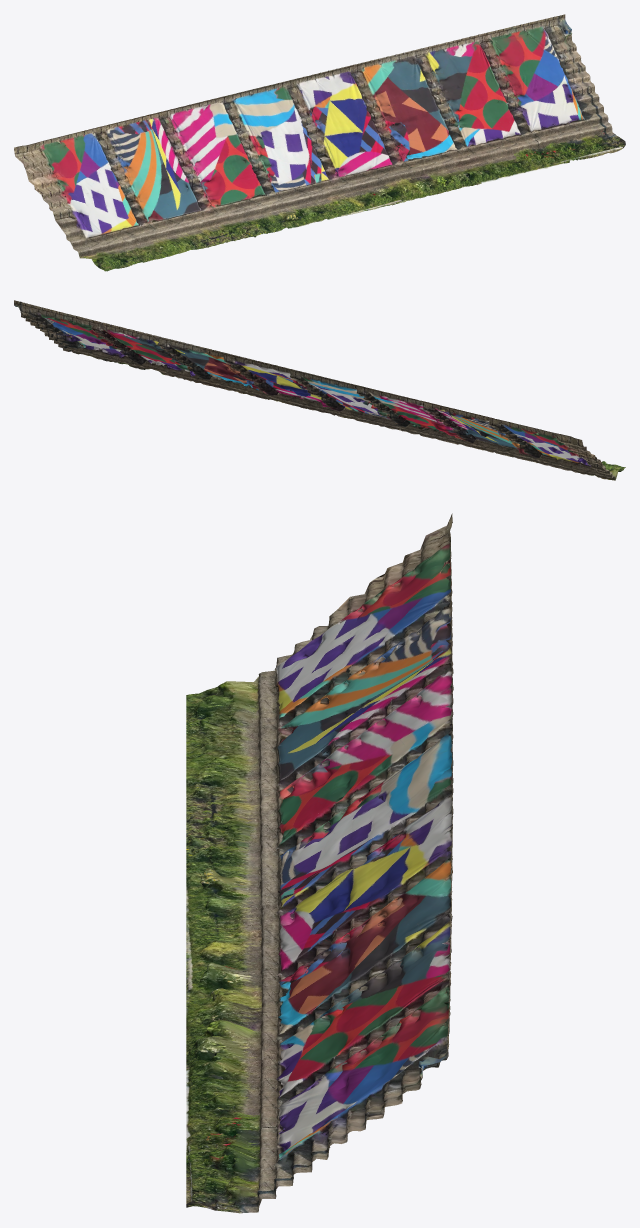
The model's file is asuwa-art.glb.
The picture shows the model from 3 angles, top to bottom: view 1: azimuth 30°, elevation 25°; view 2: azimuth 150°, elevation 25°; view 3: azimuth 270°, elevation 25°; orthographic projection. The views are drawn at different scales.
Parts seen in each view (by area): view 1: ObjectCapture; view 2: ObjectCapture; view 3: ObjectCapture.
Part boxes in pixels (bbox=[...]): ObjectCapture: bbox=[14, 14, 625, 271]; ObjectCapture: bbox=[14, 300, 625, 480]; ObjectCapture: bbox=[186, 513, 453, 1213].
Bounding box in the file's own units: 26.54 × 3.99 × 5.59.
1 material, 1 textured.
